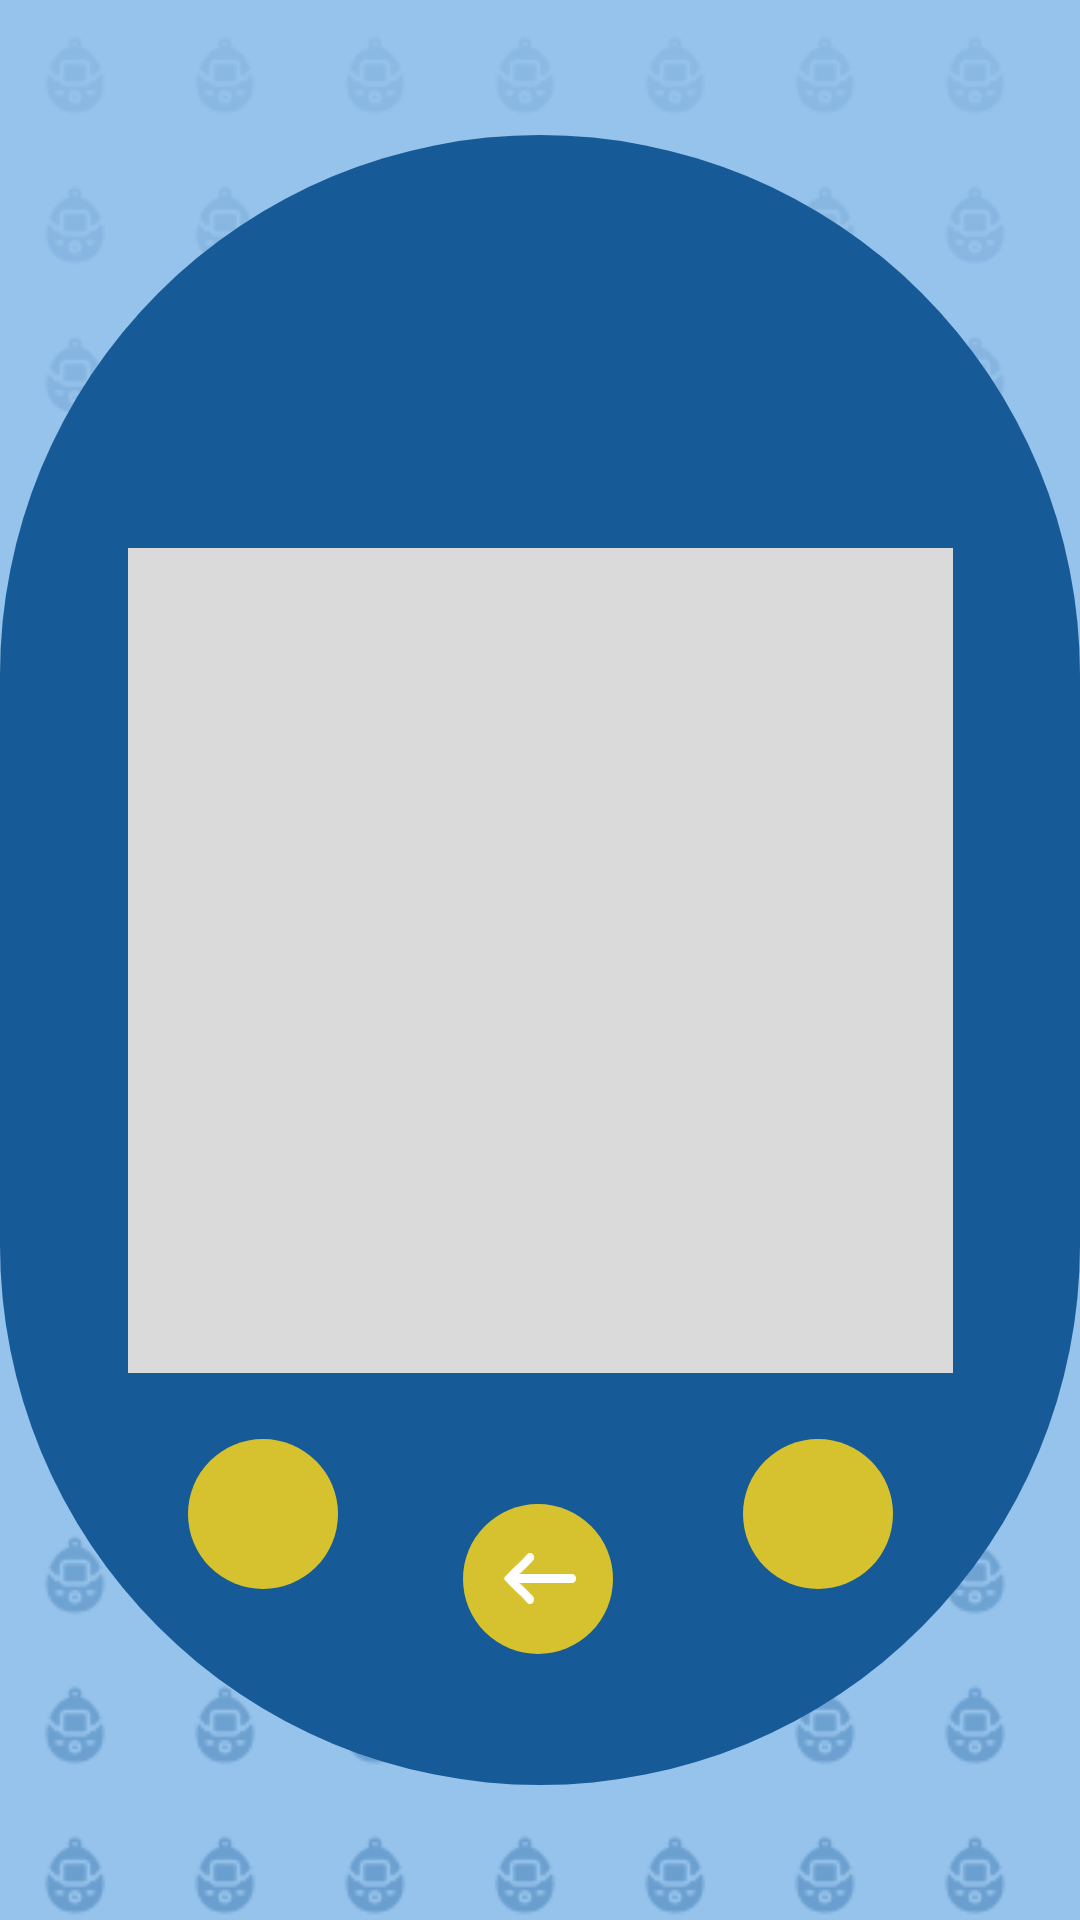

Named icons in this screenshot (1080w x 1920h) and their centers, point (x, y):
left arrow: point (539, 1578)
